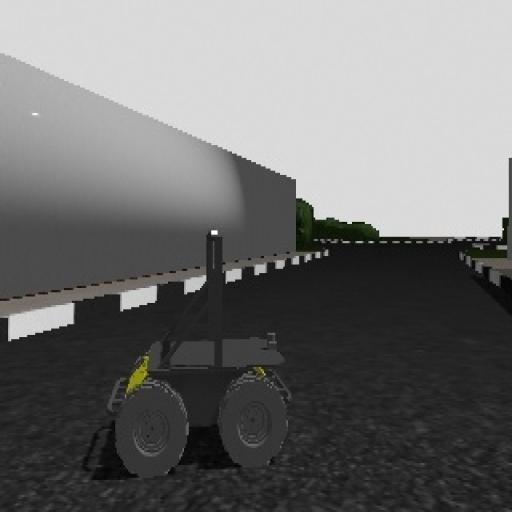huskya200: (92, 229, 316, 490)
